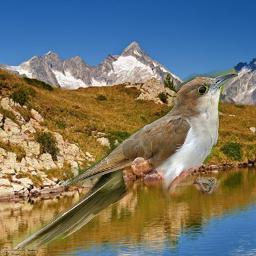Cuckoo: (10, 69, 238, 251)
